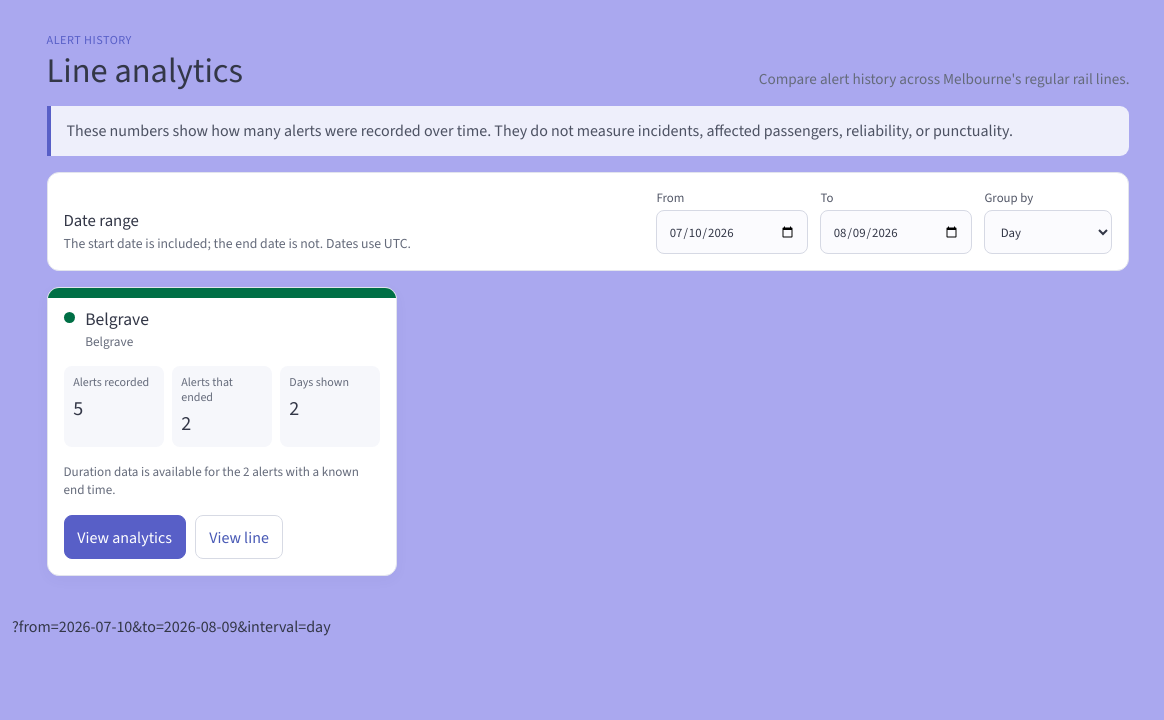
analytics pages › adds last-30-day UTC defaults to the URL and updates its interval
Select "Week" in the dropdown labelled "Group by" at (1048, 232), box [984,210,1112,254]
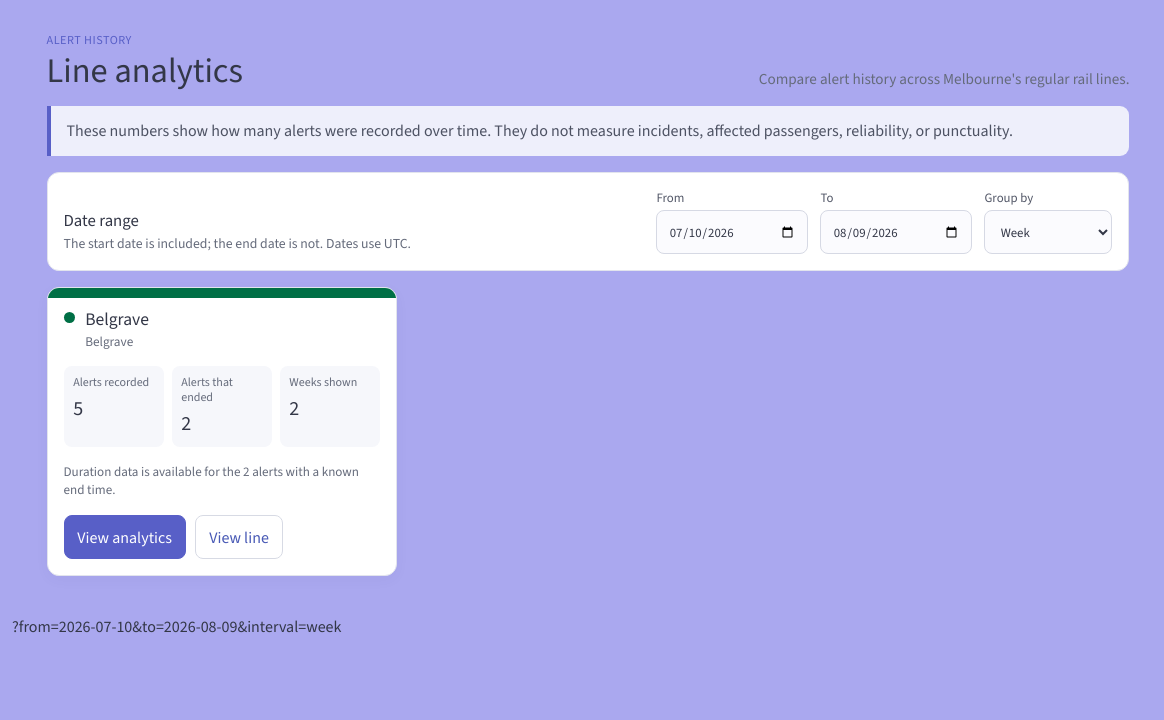
Check: the text named "current location" shows "interval=week", box [12,616,341,637]
